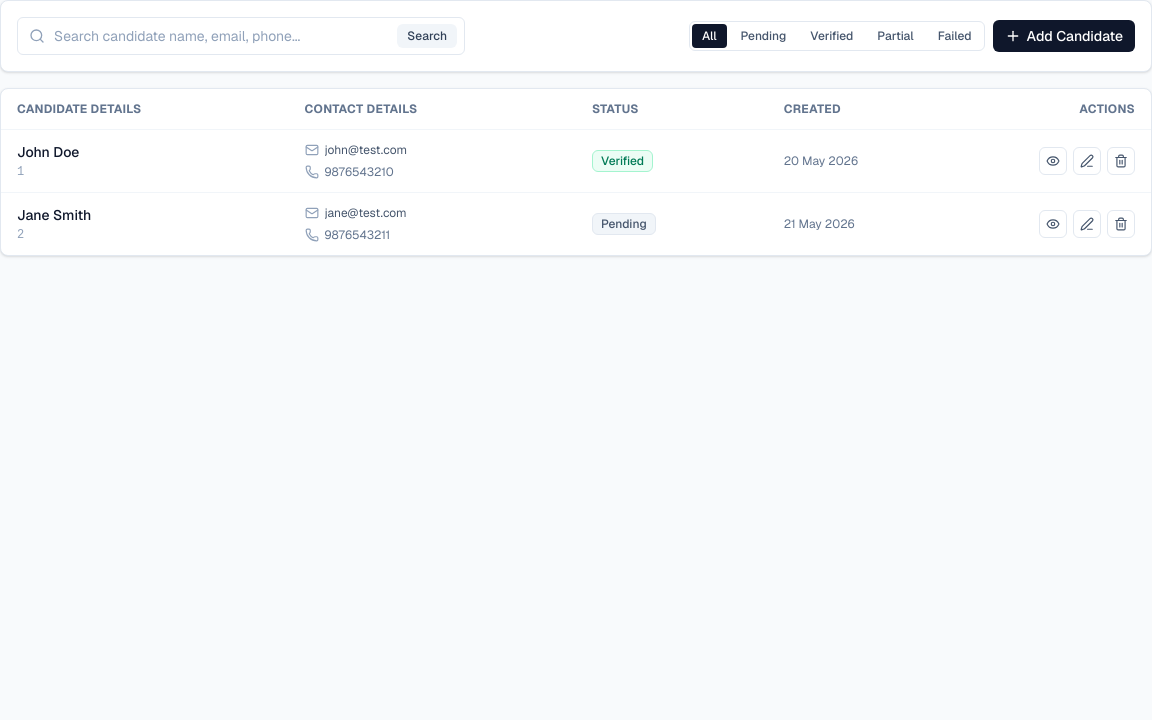
it: CandidateList Component › Add Candidate Modal › should validate candidate form fields
This screenshot has width=1152, height=720.
Step 1. Click the button "Add Candidate" → (1064, 36), box [993,20,1135,52]
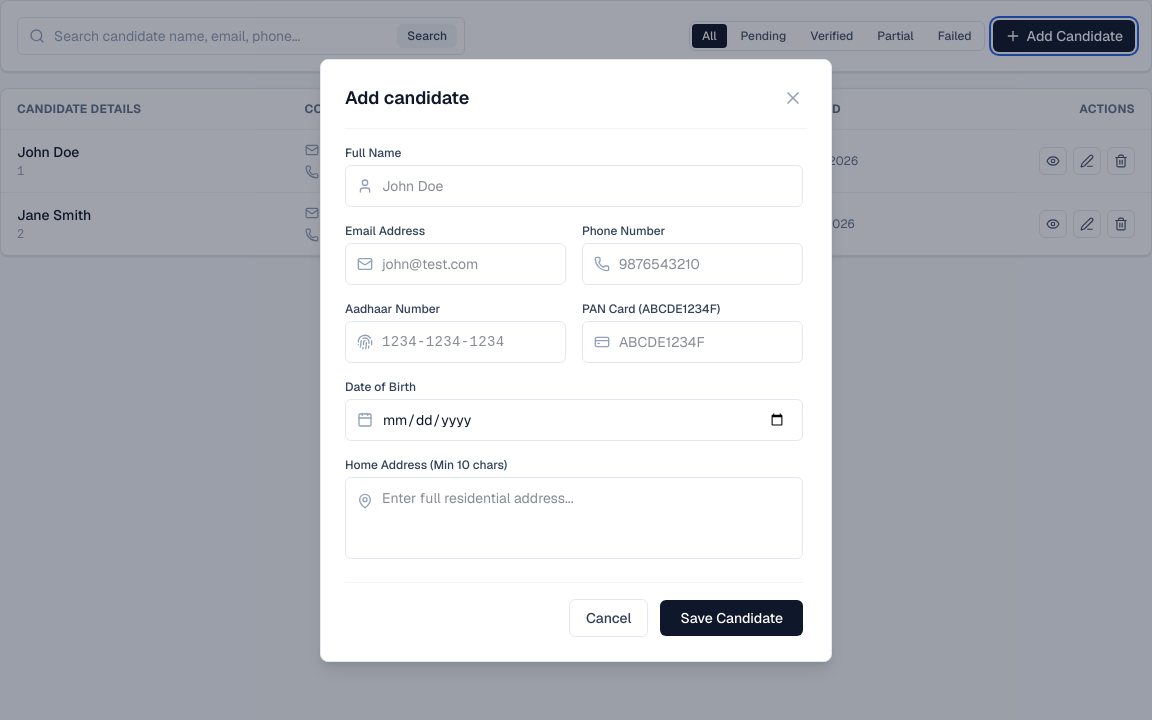
Step 2. Click the button "Save Candidate" → (732, 618), box [660,600,803,636]
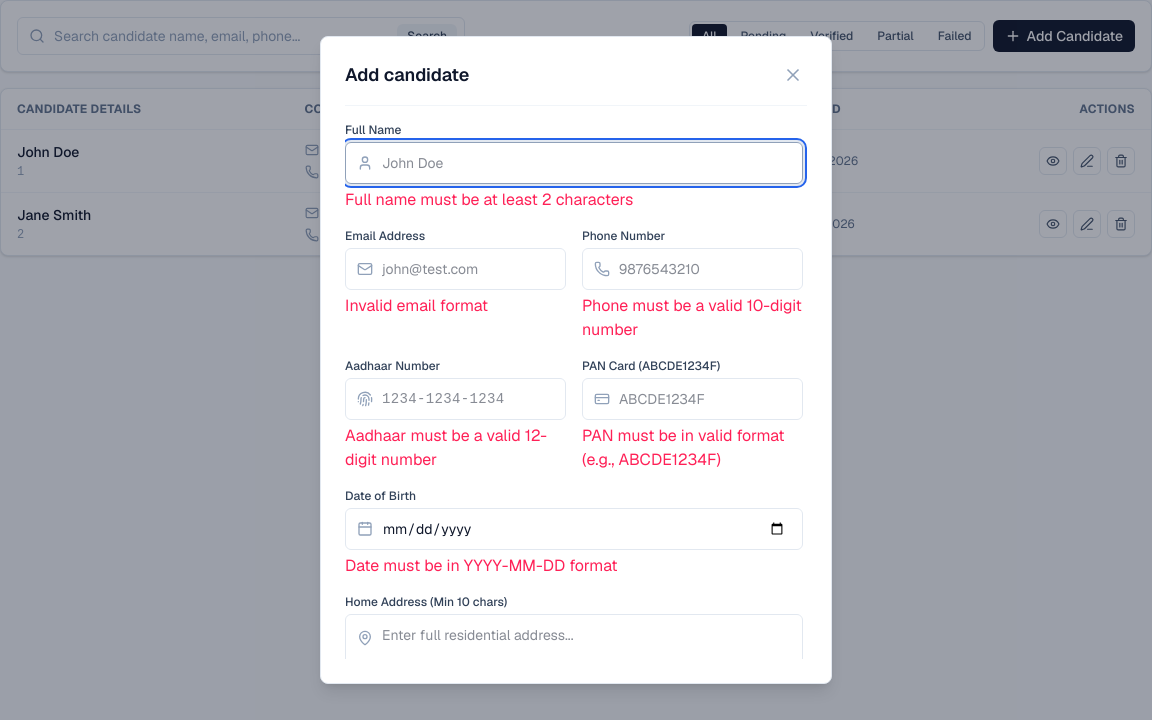
Now the text "Full name must be at least 2 characters" is shown, box [345,189,633,210]
